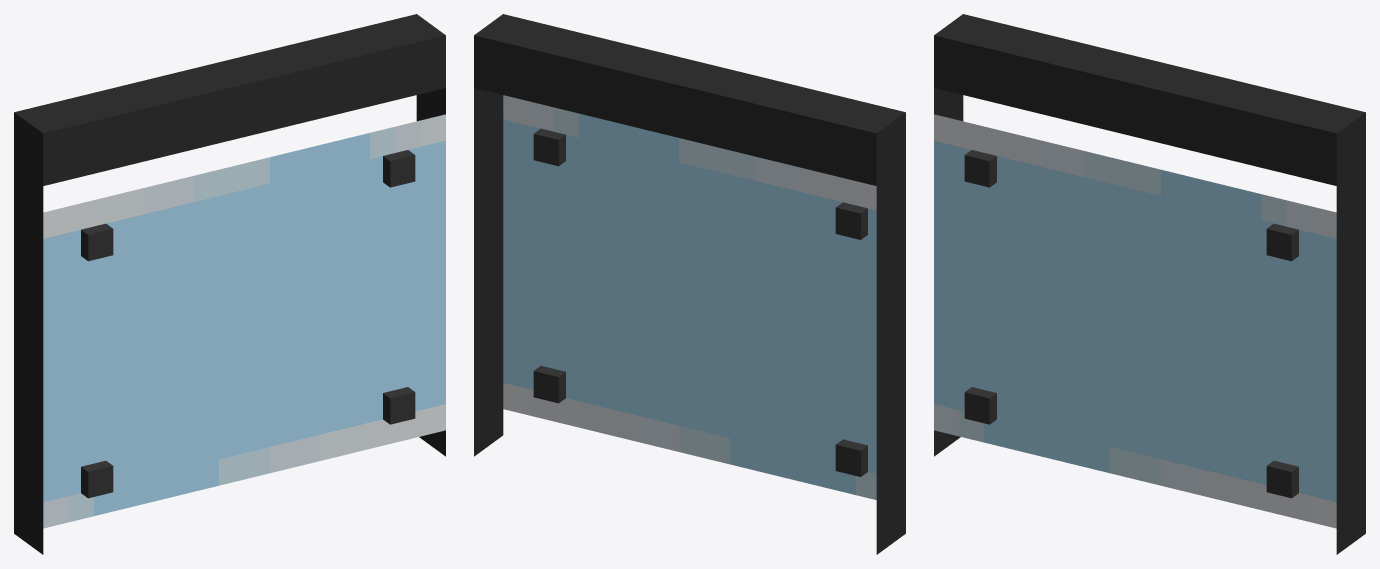
Rendered from baranda.gltf.
3 views of the same model, side by side, from view 1: azimuth 30°, elevation 25°; view 2: azimuth 150°, elevation 25°; view 3: azimuth 330°, elevation 25° (orthographic).
Visible parts, largest first — view 1: glass_panel, cuboid (×4); view 2: glass_panel, cuboid (×4); view 3: glass_panel, cuboid (×4).
Part boxes in pixels (x1,y1,x2,y2): glass_panel: (14,14,445,554); cuboid (×4): (81,150,415,498); glass_panel: (474,14,905,554); cuboid (×4): (533,128,867,476); glass_panel: (934,14,1365,554); cuboid (×4): (964,150,1298,498).
Bounding box in the file's own units: 1 × 1 × 0.1563.
Materials: 2 (2 with a texture image).
